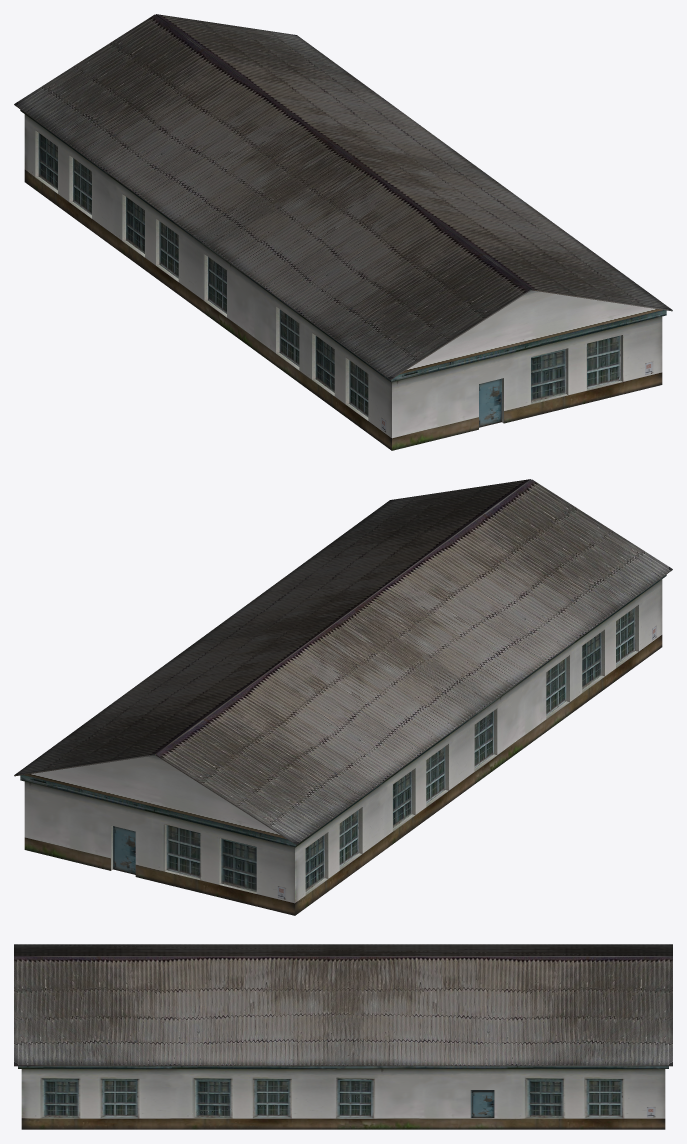
The model's file is r402_ishim_prom_zdanie.FBX.
3 renders of one model, top to bottom at view 1: azimuth 30°, elevation 25°; view 2: azimuth 150°, elevation 25°; view 3: azimuth 270°, elevation 25°, orthographic. The views are drawn at different scales.
Parts seen in each view (by area): view 1: r402_ishim_prom_zdanie; view 2: r402_ishim_prom_zdanie; view 3: r402_ishim_prom_zdanie.
Part boxes in pixels (bbox=[...]): r402_ishim_prom_zdanie: bbox=[14, 14, 672, 450]; r402_ishim_prom_zdanie: bbox=[14, 479, 672, 915]; r402_ishim_prom_zdanie: bbox=[14, 944, 672, 1129].
Bounding box in the file's own units: 1346 × 3097 × 598.
